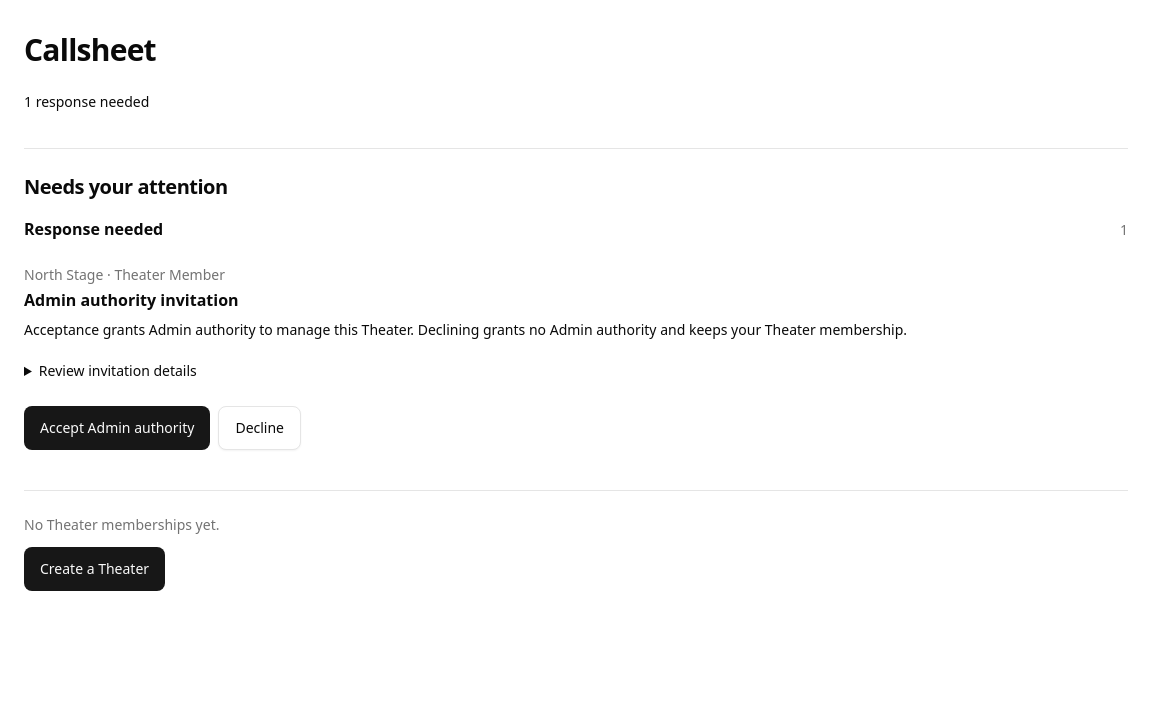
reports the recorded result and keeps success distinct from a subsequent refresh failure
Step 1. Click the button "Accept Admin authority" → [117, 428], box [24,406,210,450]
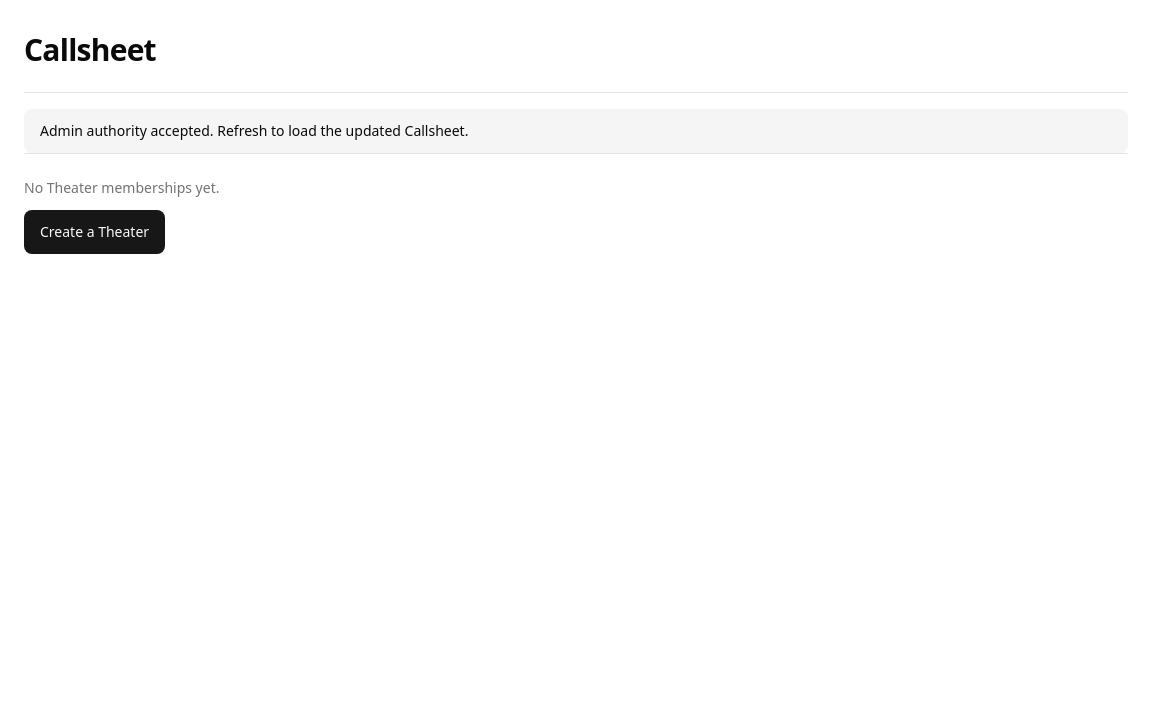
Expected: the message reads "Admin authority accepted. Refresh to load the updated Callsheet.", [40,121,468,140]
Expected: the button "Accept Admin authority" is gone
